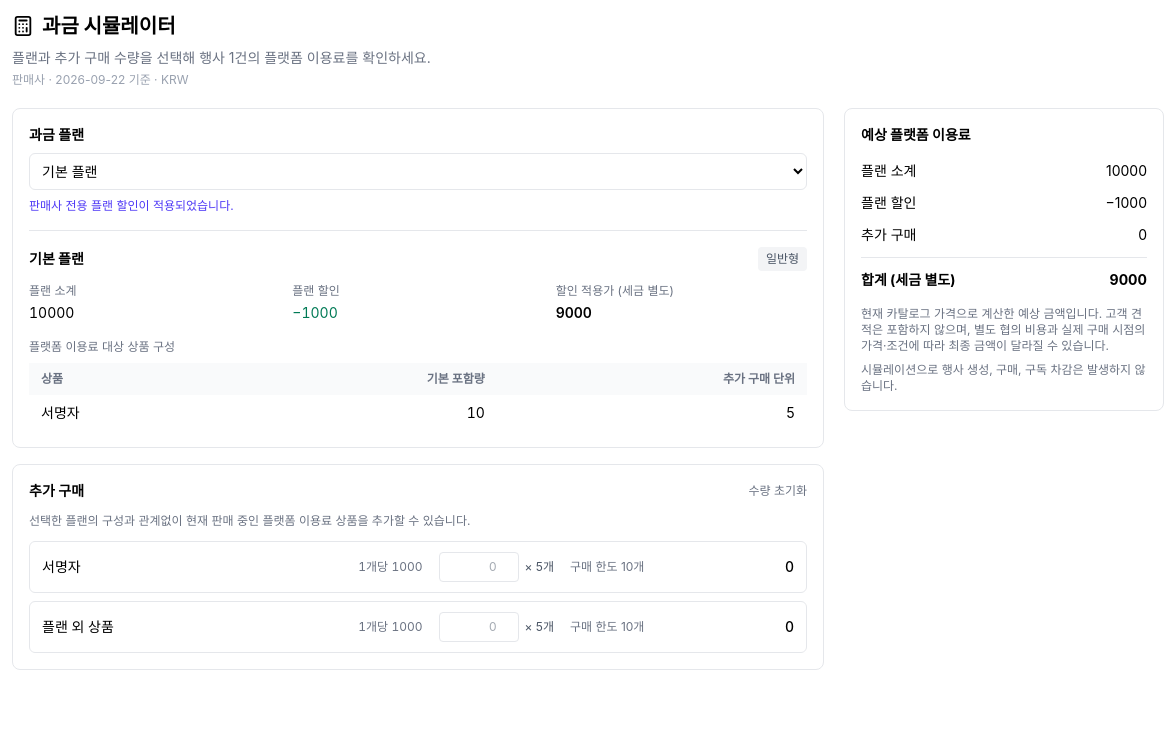
Test: 판매사 과금 시뮬레이터 › 플랜에 없는 플랫폼 이용료 상품도 추가하고 플랜 상세에는 포함시키지 않는다
In the number field named "플랜 외 상품 추가 구매 단위": (478, 627) [438, 612, 518, 642], type "1"
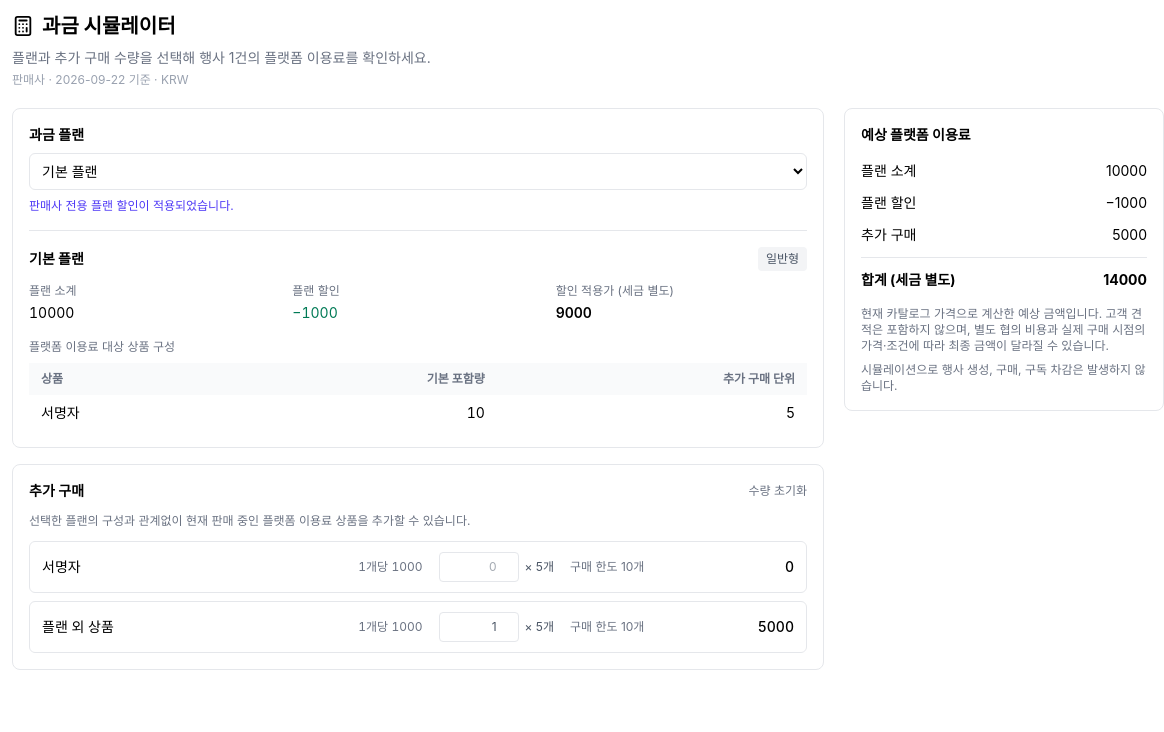
Check: the element named "선택한 플랜 상세" does not show "플랜 외 상품", box [29, 230, 807, 431]
Check: the text "14000" is shown, box [1103, 270, 1147, 290]
